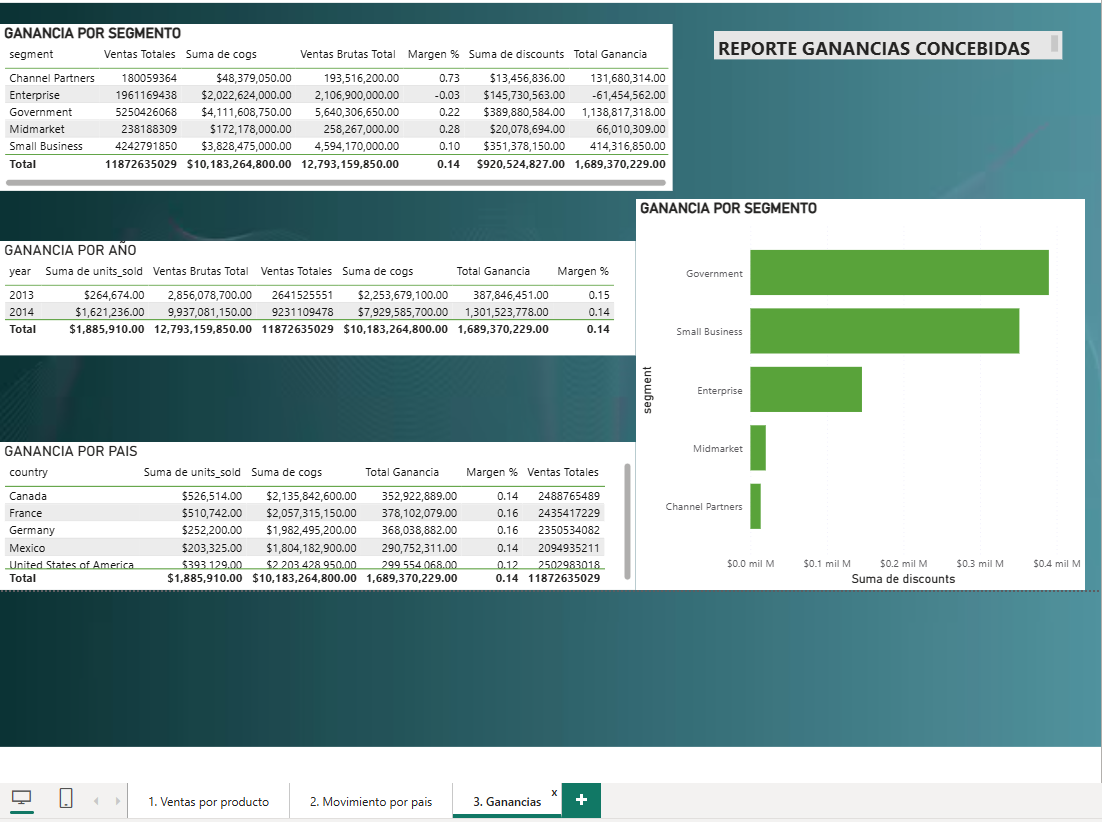

The dashboard page shown, as its layout file describes it:
{"tool":"powerbi","page":{"name":"3. Ganancias","canvas":[1280,720],"ordinal":2},"visuals":[{"type":"tableEx","title":"GANANCIA POR SEGMENTO","fields":{"Values":["staging_raw.segment","staging_raw.Ventas Totales","Sum(staging_raw.cogs)","staging_raw.Ventas Brutas Total","staging_raw.Margen %","Sum(staging_raw.discounts)","staging_raw.Total Ganancia"]},"box":[0,61.6,782.4,194.2],"z":0},{"type":"tableEx","title":"GANANCIA POR AÑO","fields":{"Values":["staging_raw.year","Sum(staging_raw.units_sold)","staging_raw.Ventas Brutas Total","staging_raw.Ventas Totales","Sum(staging_raw.cogs)","staging_raw.Total Ganancia","staging_raw.Margen %"]},"box":[0,313.9,739.4,132.5],"z":1},{"type":"tableEx","title":"GANANCIA POR PAIS","fields":{"Values":["staging_raw.country","Sum(staging_raw.units_sold)","Sum(staging_raw.cogs)","staging_raw.Total Ganancia","staging_raw.Margen %","staging_raw.Ventas Totales"]},"box":[0,547.6,739.4,172.1],"z":2},{"type":"barChart","title":"GANANCIA POR SEGMENTO","fields":{"Category":["staging_raw.segment"],"Y":["Sum(staging_raw.discounts)"]},"box":[739.4,265.1,522,454.6],"z":3},{"type":"textbox","box":[830.1,69.8,404.6,32.6],"z":4}]}

Visuals, with their boxes on the page's 1280x720 design canvas (x1, y1, x2, y2). These are canvas units, not pixel positions in the 1102x822 screenshot, which may show the page scaled, cropped or inside an application window:
"GANANCIA POR SEGMENTO" tableEx: <bbox>0, 62, 782, 256</bbox>
"GANANCIA POR AÑO" tableEx: <bbox>0, 314, 739, 446</bbox>
"GANANCIA POR PAIS" tableEx: <bbox>0, 548, 739, 720</bbox>
"GANANCIA POR SEGMENTO" barChart: <bbox>739, 265, 1261, 720</bbox>
textbox: <bbox>830, 70, 1235, 102</bbox>
